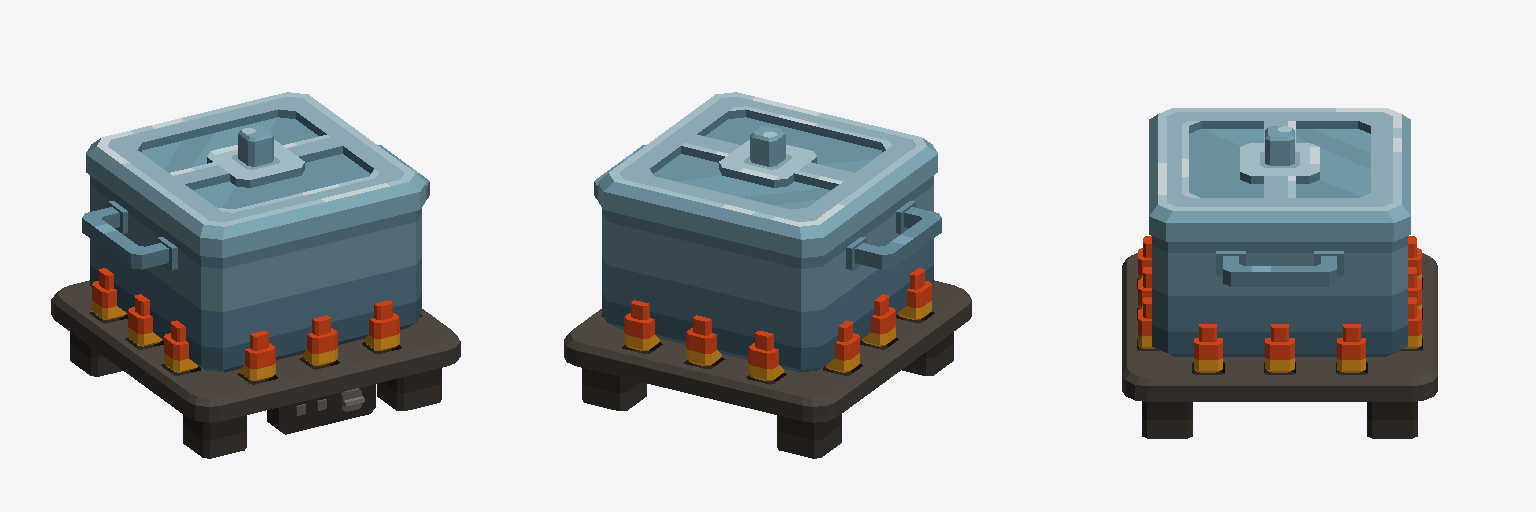
The picture shows the model from 3 angles: view 1: azimuth 30°, elevation 25°; view 2: azimuth 150°, elevation 25°; view 3: azimuth 270°, elevation 25°; orthographic projection.
Parts seen in each view (by area): view 1: cauldron_silver_lid, cauldron_silver_pot, cauldron_base, cauldron_flame; view 2: cauldron_silver_lid, cauldron_silver_pot, cauldron_base, cauldron_flame; view 3: cauldron_silver_lid, cauldron_silver_pot, cauldron_base, cauldron_flame.
Part boxes in pixels (left/top/right/bottom): cauldron_silver_lid: left=86, top=92, right=425, bottom=257; cauldron_silver_pot: left=82, top=145, right=429, bottom=372; cauldron_base: left=51, top=280, right=460, bottom=458; cauldron_flame: left=92, top=268, right=399, bottom=380; cauldron_silver_lid: left=598, top=92, right=937, bottom=257; cauldron_silver_pot: left=594, top=145, right=941, bottom=372; cauldron_base: left=564, top=280, right=971, bottom=458; cauldron_flame: left=624, top=268, right=931, bottom=380; cauldron_silver_lid: left=1149, top=108, right=1410, bottom=241; cauldron_silver_pot: left=1152, top=236, right=1407, bottom=356; cauldron_base: left=1122, top=253, right=1437, bottom=438; cauldron_flame: left=1138, top=236, right=1421, bottom=372.
Bounding box in the file's own units: 5.41 × 4.3 × 4.94.
3 materials, 3 textured.